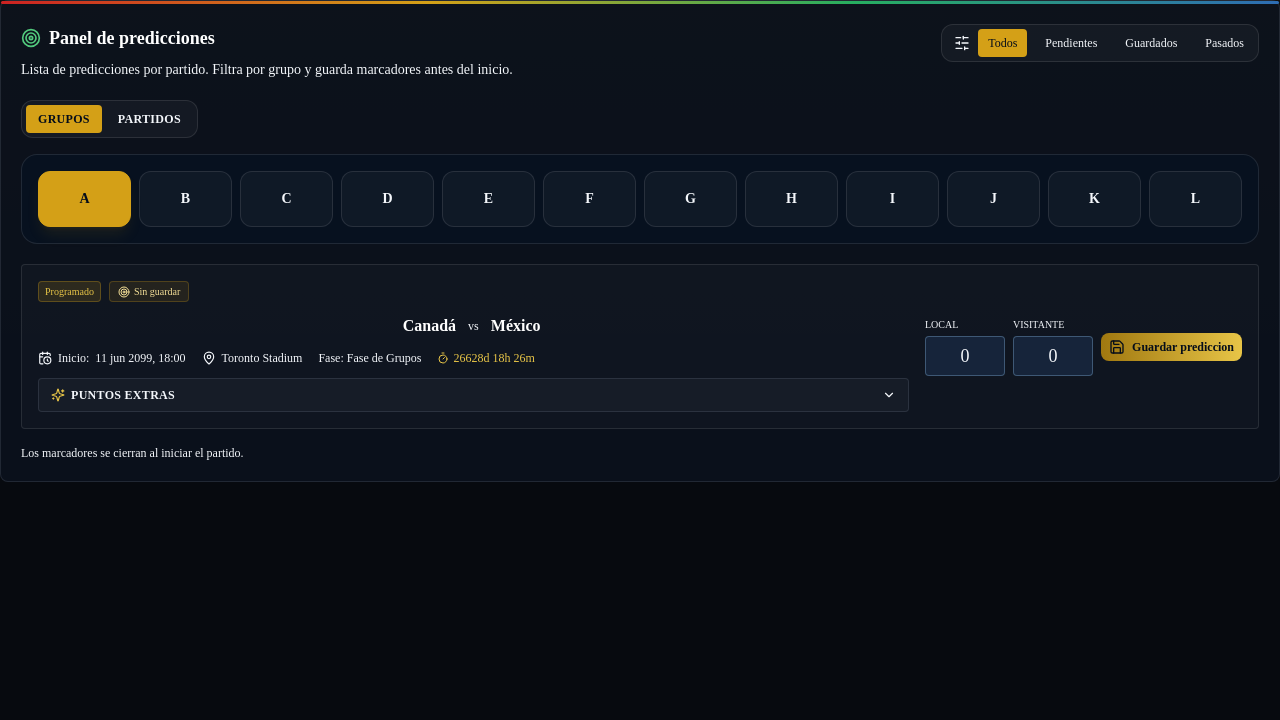
Test case: PredictionPanel › shows mutation error feedback on submission failure
Expected: the text "Canadá" is shown, x1=403 y1=317 x2=456 y2=334
What coordinates should you click on to do the following:
click the button "Guardar prediccion"
I would click on:
 (1171, 346)
Its box is x1=1101 y1=332 x2=1242 y2=360.
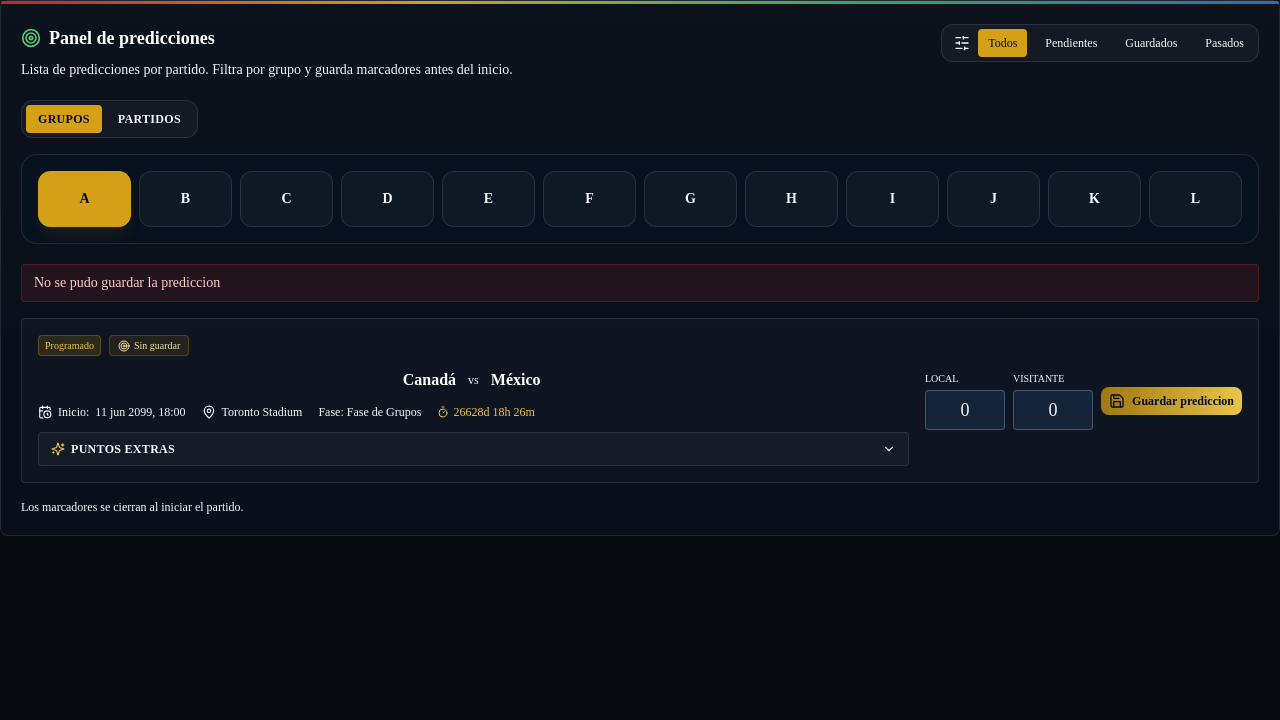
Now the text "No se pudo guardar la prediccion" is shown, box x1=21 y1=264 x2=1259 y2=302
